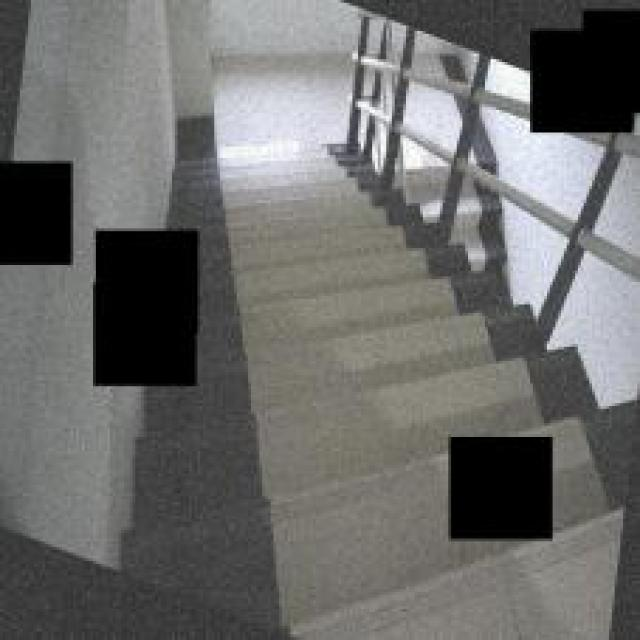downstair: (217, 231, 415, 544)
